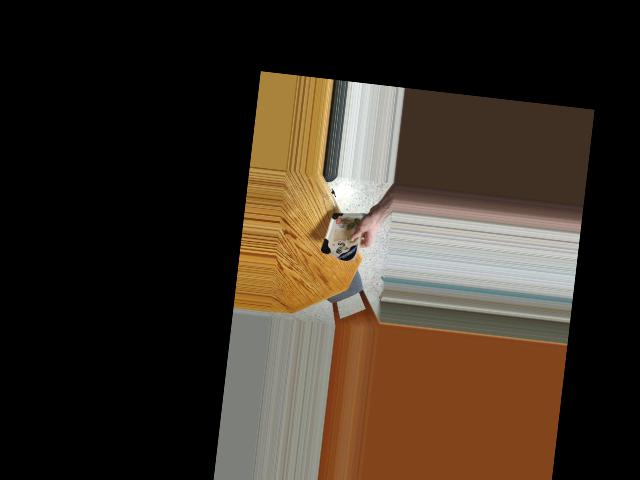cheese: (324, 203, 365, 265)
